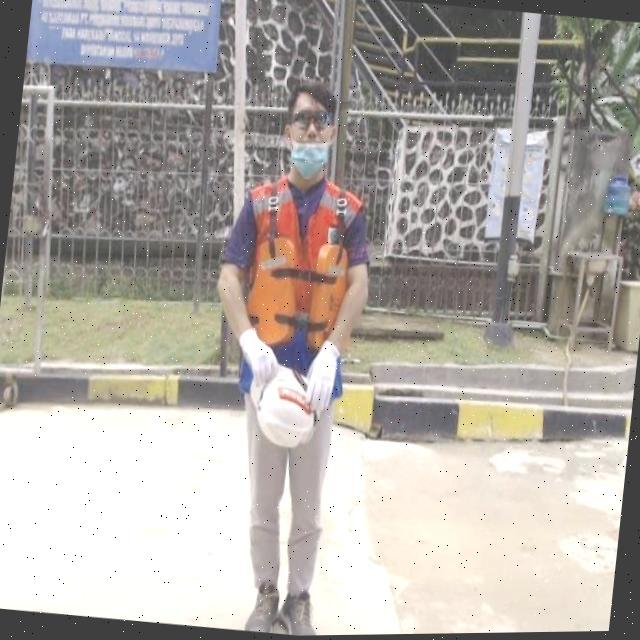goggles_on: (284, 104, 339, 135)
